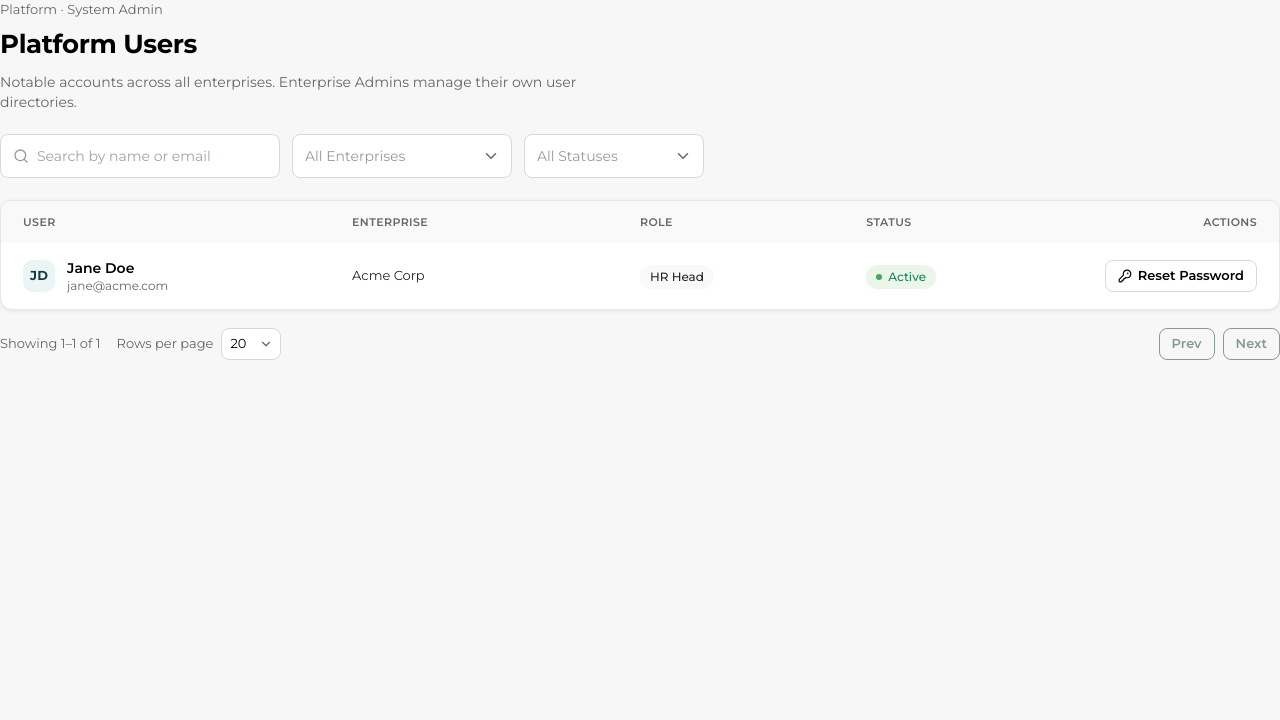
Scenario: Reset Password confirms, posts, and shows the temporary password to copy
expect the text "Jane Doe" is shown: met, box x1=67 y1=259 x2=134 y2=277
Step 1. Click the button "Reset Password" → (1181, 276), box x1=1105 y1=260 x2=1257 y2=292
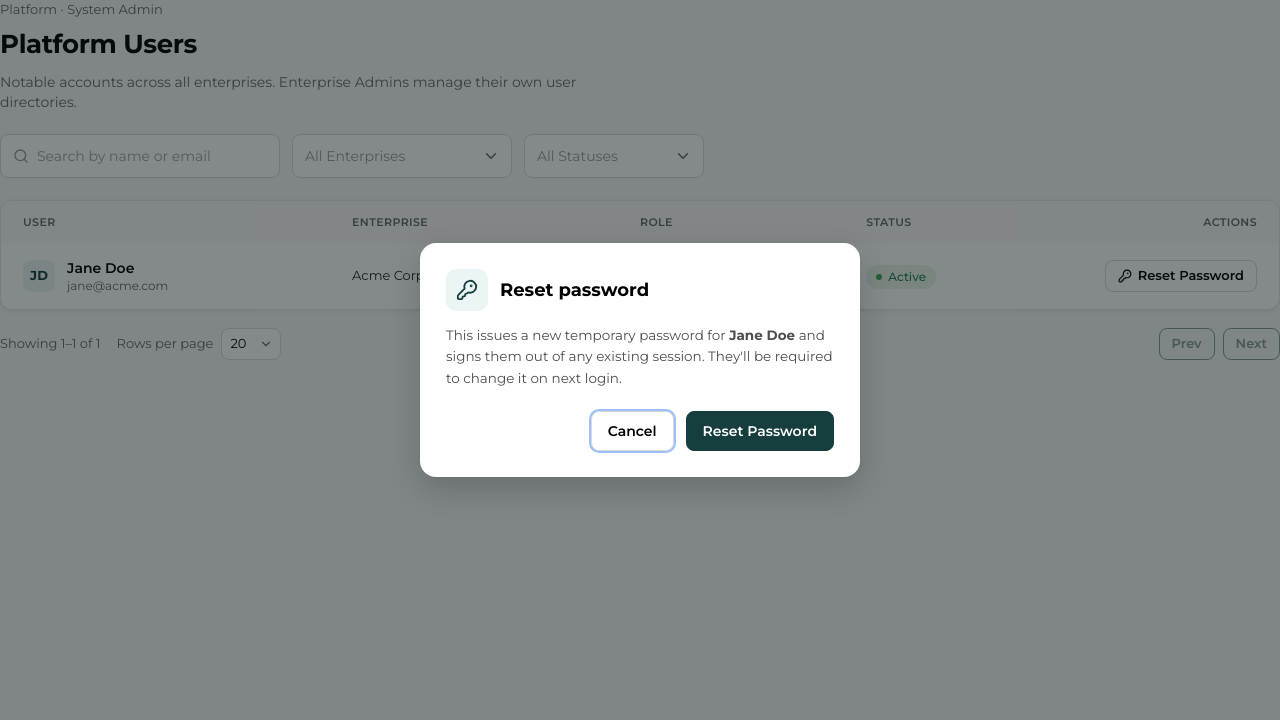
expect the text "Reset password" is shown: met, box x1=500 y1=276 x2=649 y2=304
Step 2. Click the button "Reset Password" → (760, 431), box x1=686 y1=411 x2=834 y2=451
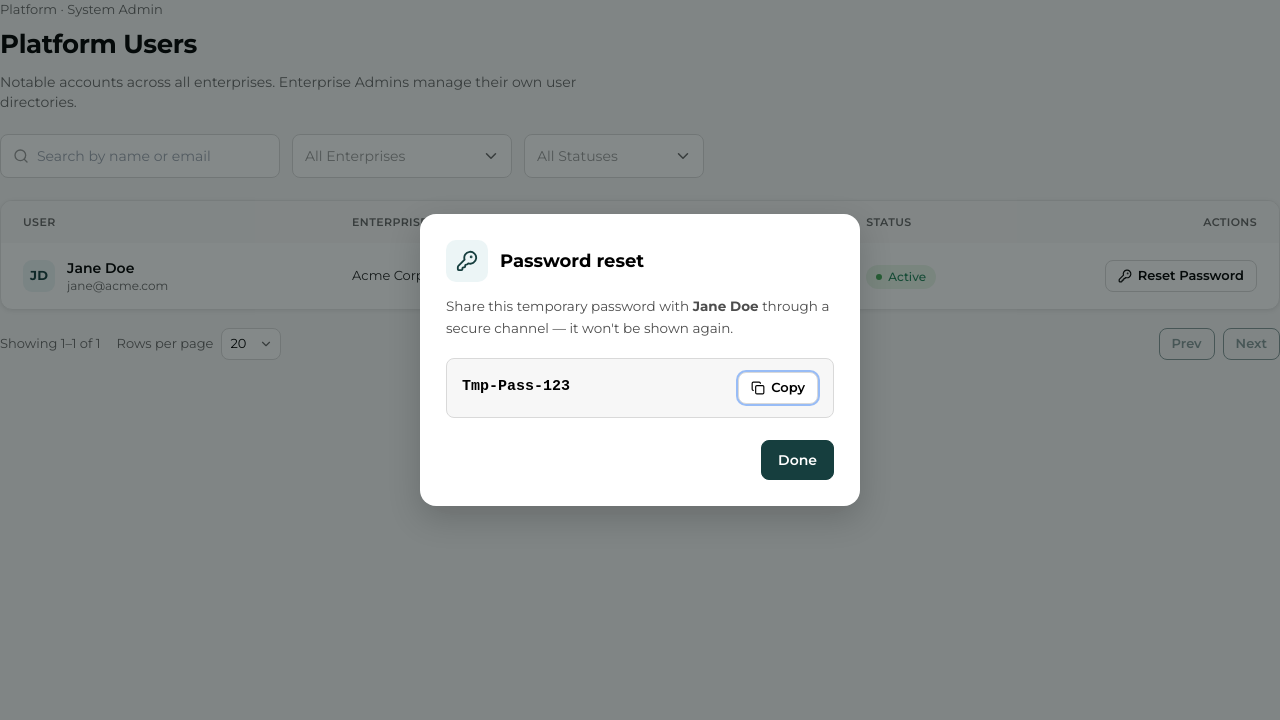
expect the text "Tmp-Pass-123" is shown: met, box x1=462 y1=376 x2=570 y2=399
Step 3. Click the button "Copy" → (778, 388), box x1=738 y1=372 x2=818 y2=404
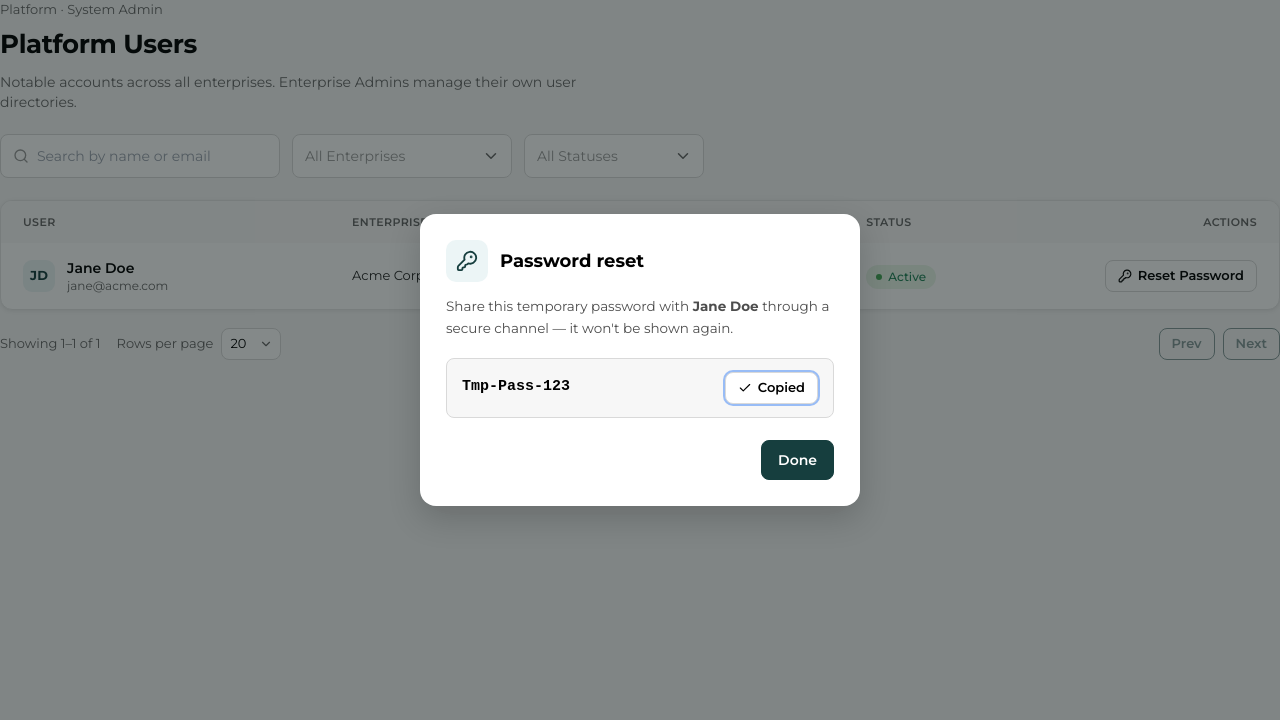
expect the button "Copied" is shown: met, box x1=725 y1=372 x2=818 y2=404
